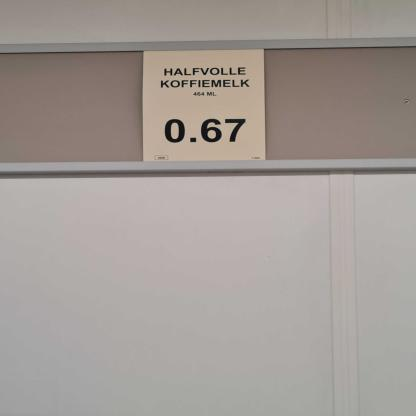prtg: (143, 50, 268, 163)
